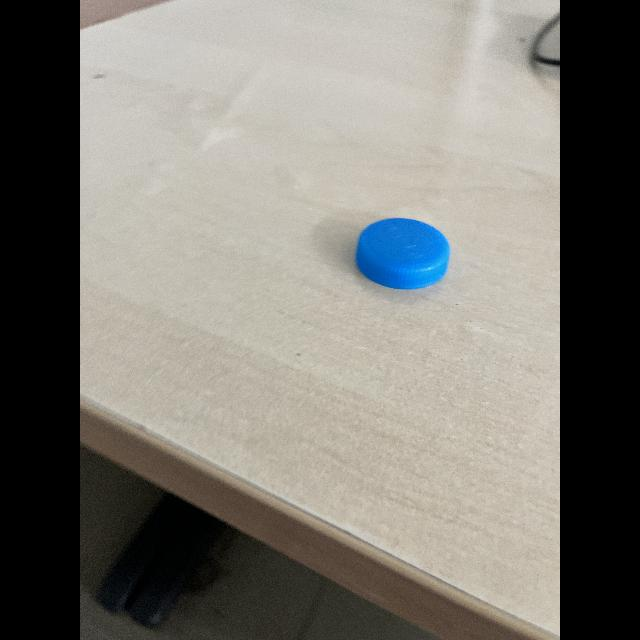plastic_bottle_cap: (348, 210, 452, 296)
